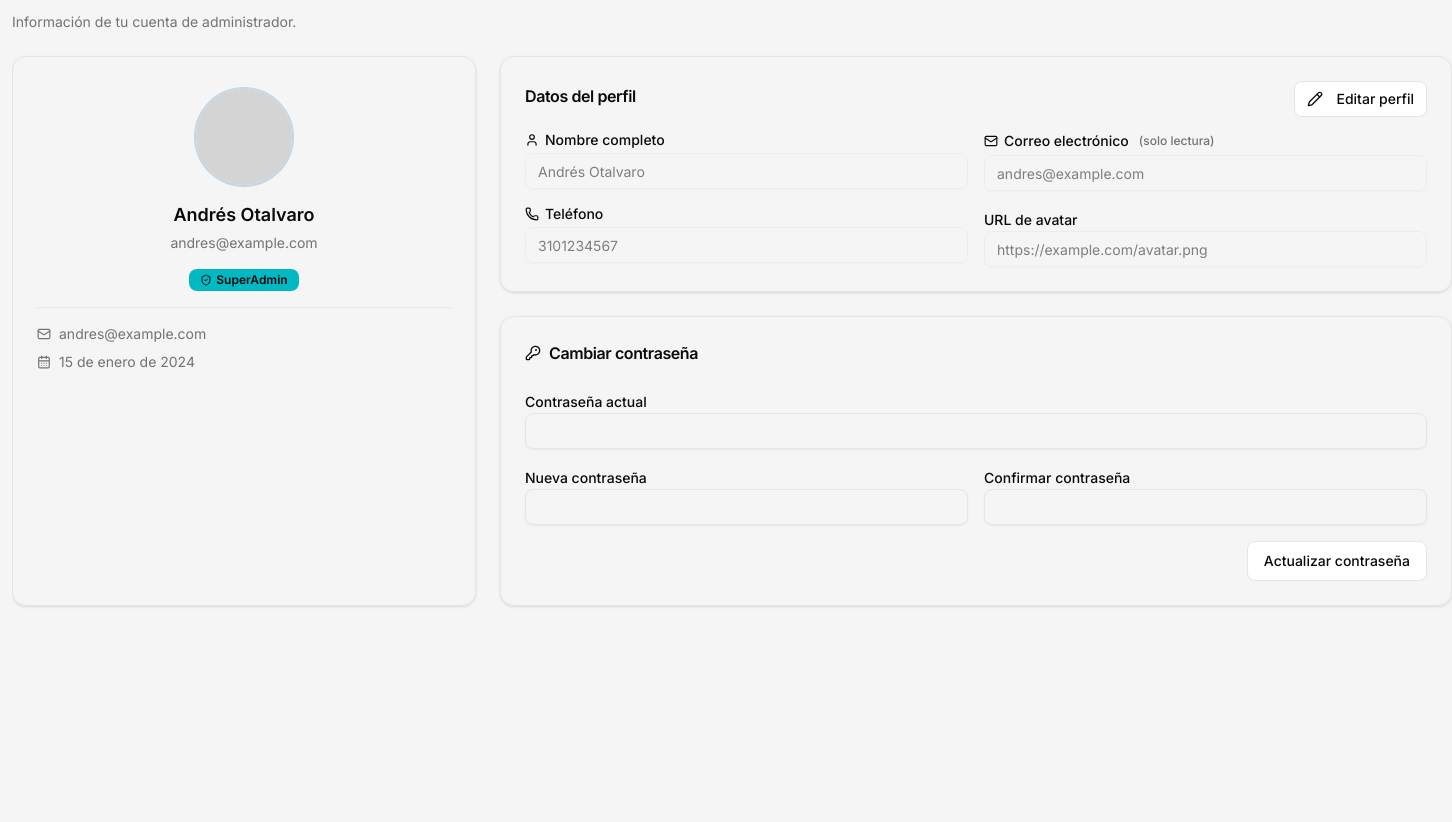
Test: UserProfile › should cancel profile editing without persisting values
Click the button "Editar perfil".
click(1360, 99)  # box left=1294, top=81, right=1427, bottom=117
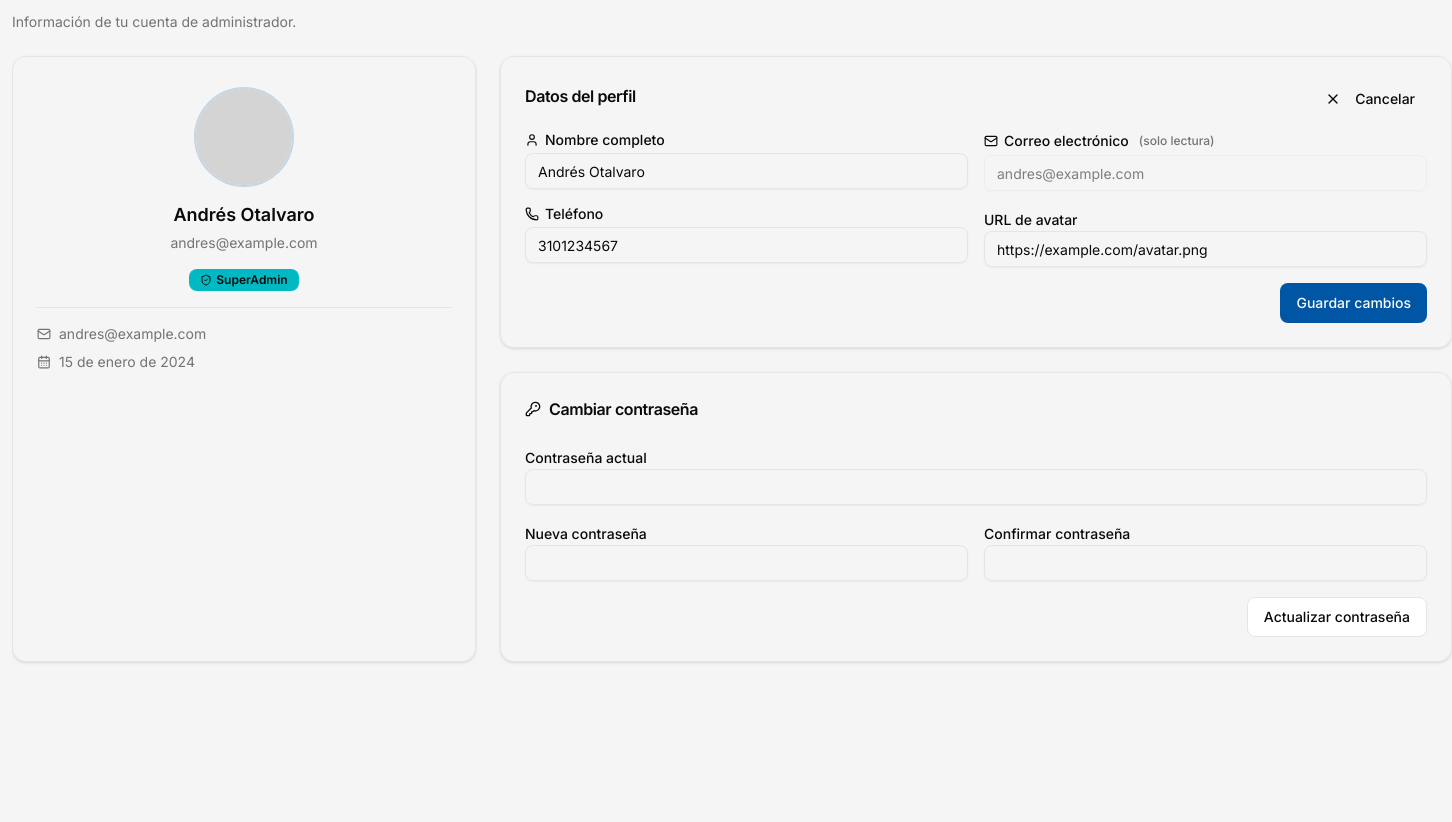
Replace the text in the field labelled "Teléfono" with "999999999" at (746, 245), box left=525, top=227, right=968, bottom=263
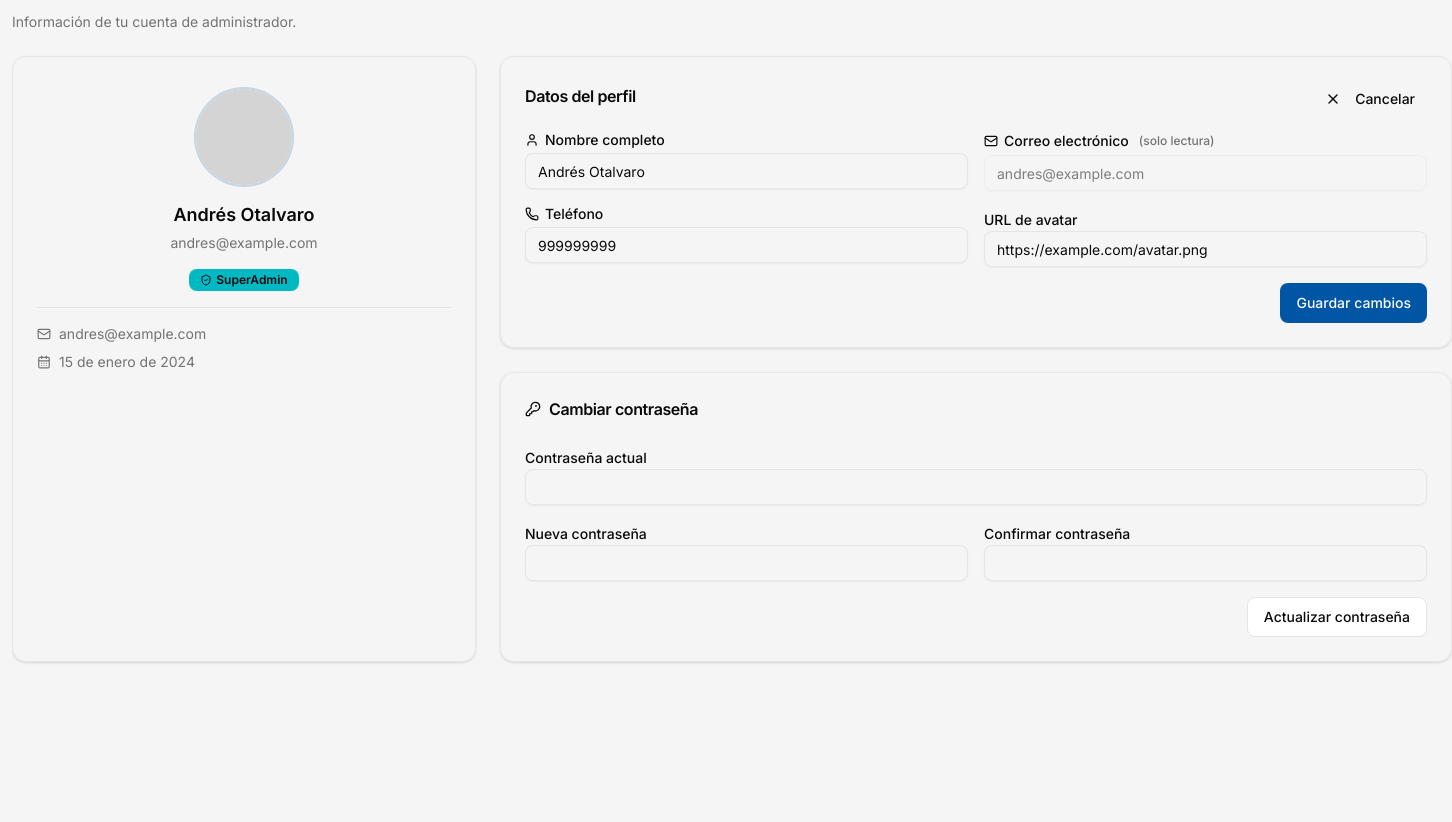
Click the button "Cancelar".
click(1370, 99)  # box left=1313, top=81, right=1427, bottom=117
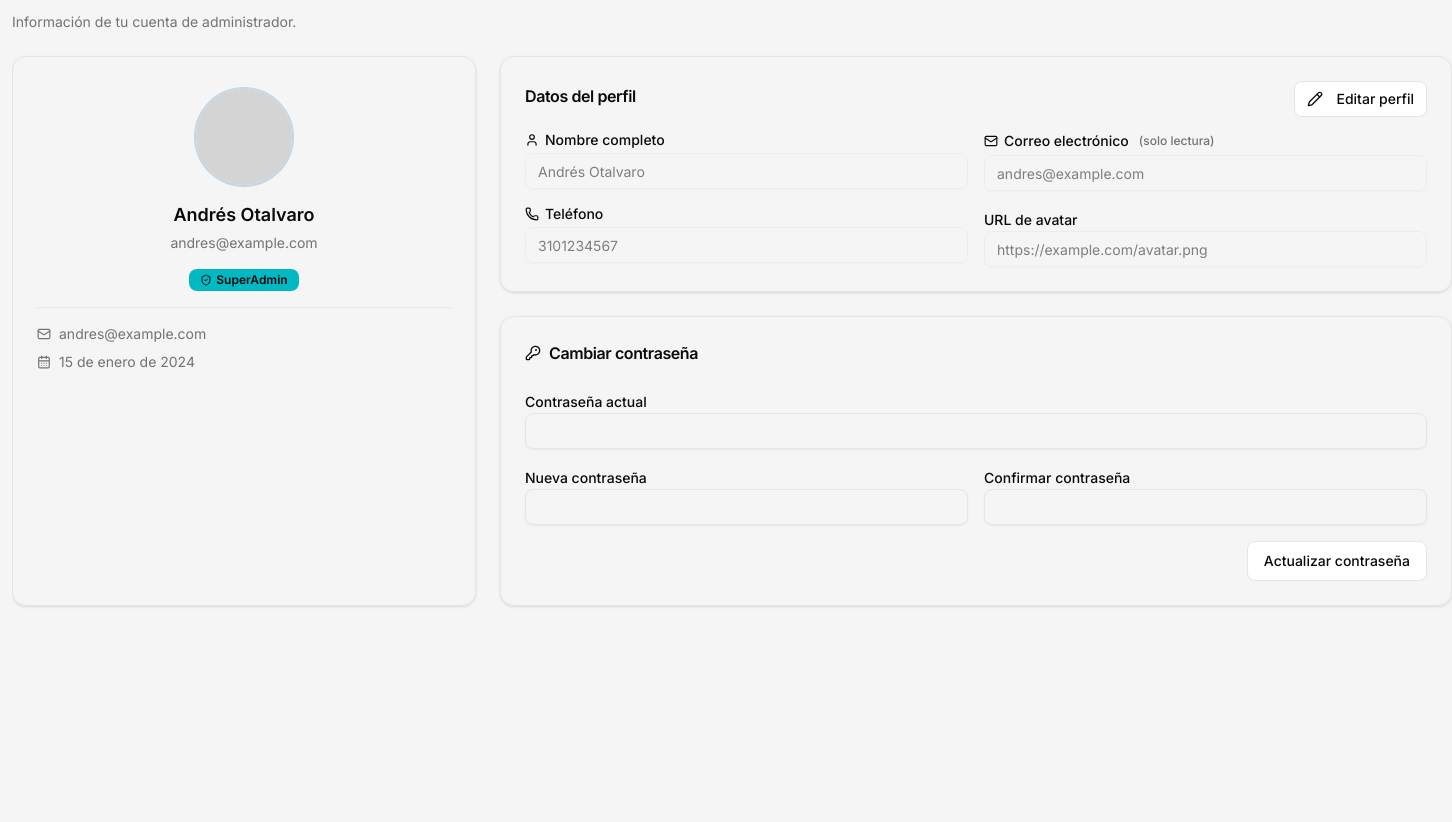
Now the field showing "3101234567" is shown, box left=525, top=227, right=968, bottom=263
